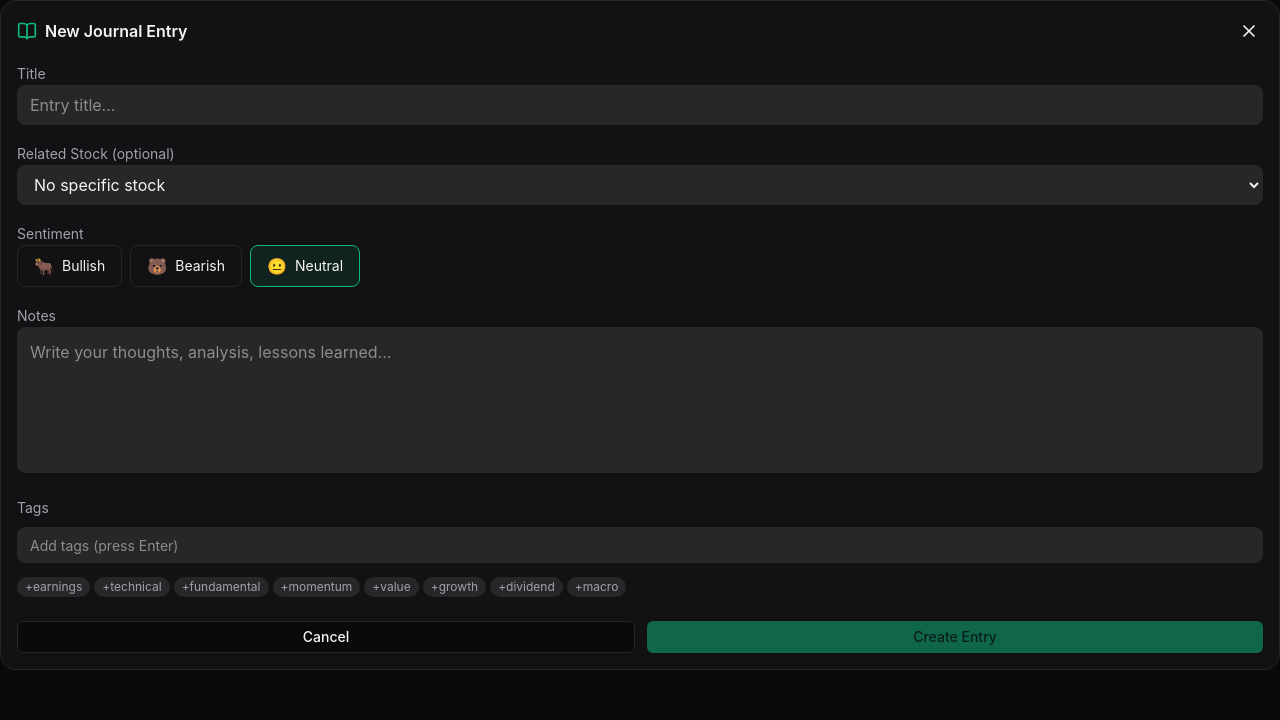
Test: TradeJournalForm › submit button is enabled when title and content are filled
This screenshot has width=1280, height=720.
Type "Test Title" into the field with placeholder "Entry title...".
click(640, 105); type("Test Title")  # box [17,85,1263,125]
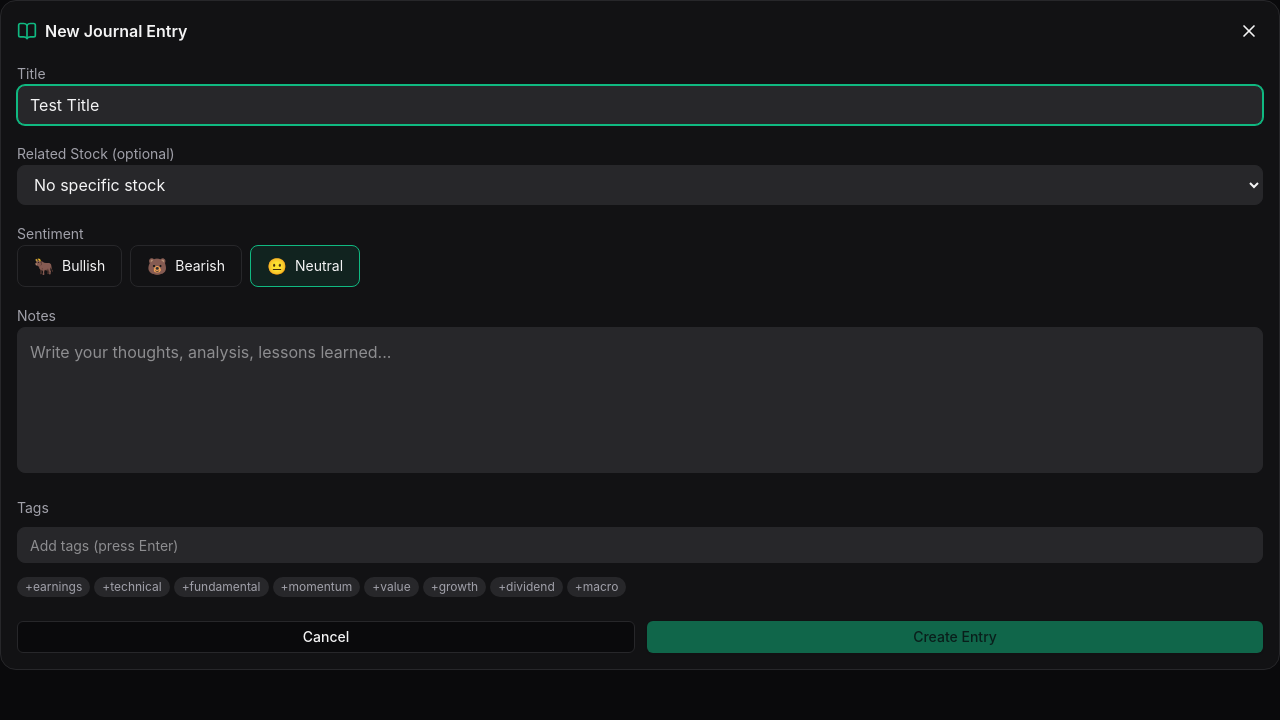
Type "Test content" into the text box with placeholder "Write your thoughts, analysis, lessons learned...".
click(640, 400); type("Test content")  # box [17,327,1263,473]
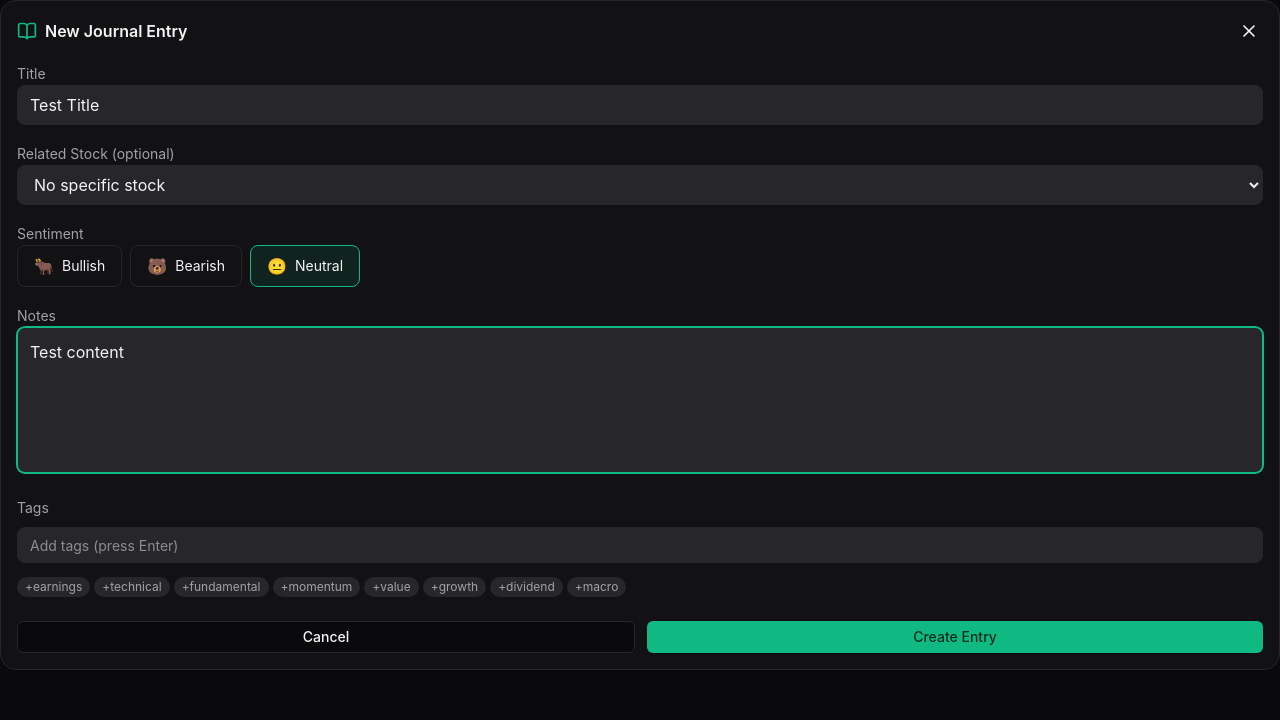
Expected: the button "Create Entry" is enabled, [647,621,1263,653]
